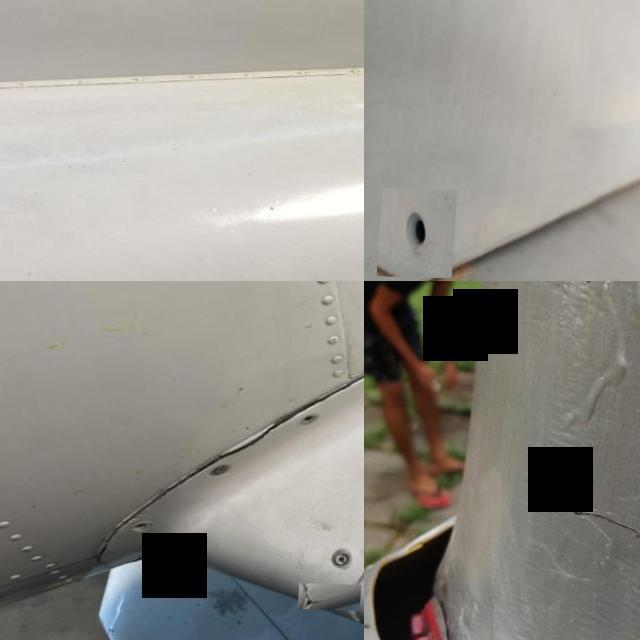Crack: (216, 413, 302, 468), (306, 580, 364, 608)
Missing_Fastener: (382, 186, 462, 276), (138, 520, 158, 534), (304, 411, 325, 424)
